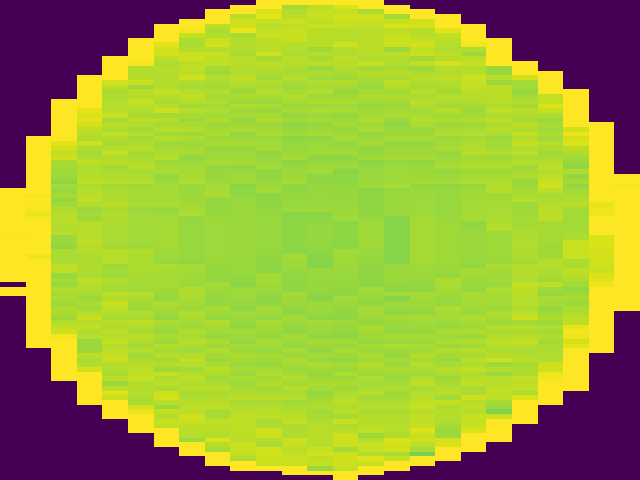sphere: (4, 5, 640, 480)
